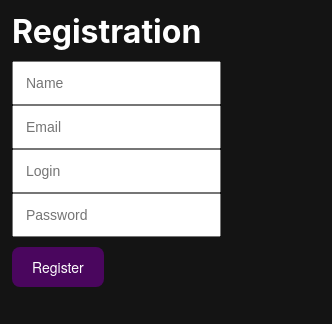
Test: RegisterForm › should display error message if password is too short
Step 1. Type "pass" into the password field with placeholder "Password" → coordinates (116, 215), box x1=12 y1=193 x2=221 y2=237
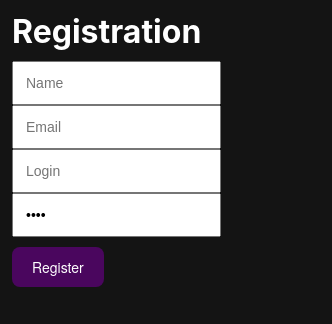
Step 2. Leave the password field with placeholder "Password", box x1=12 y1=193 x2=221 y2=237
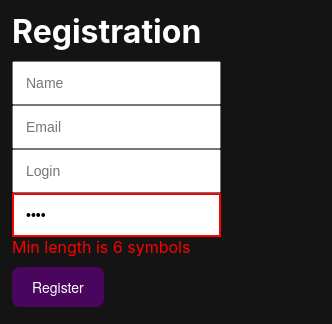
Now the text "Min length is 6 symbols" is shown, box x1=12 y1=237 x2=190 y2=257
